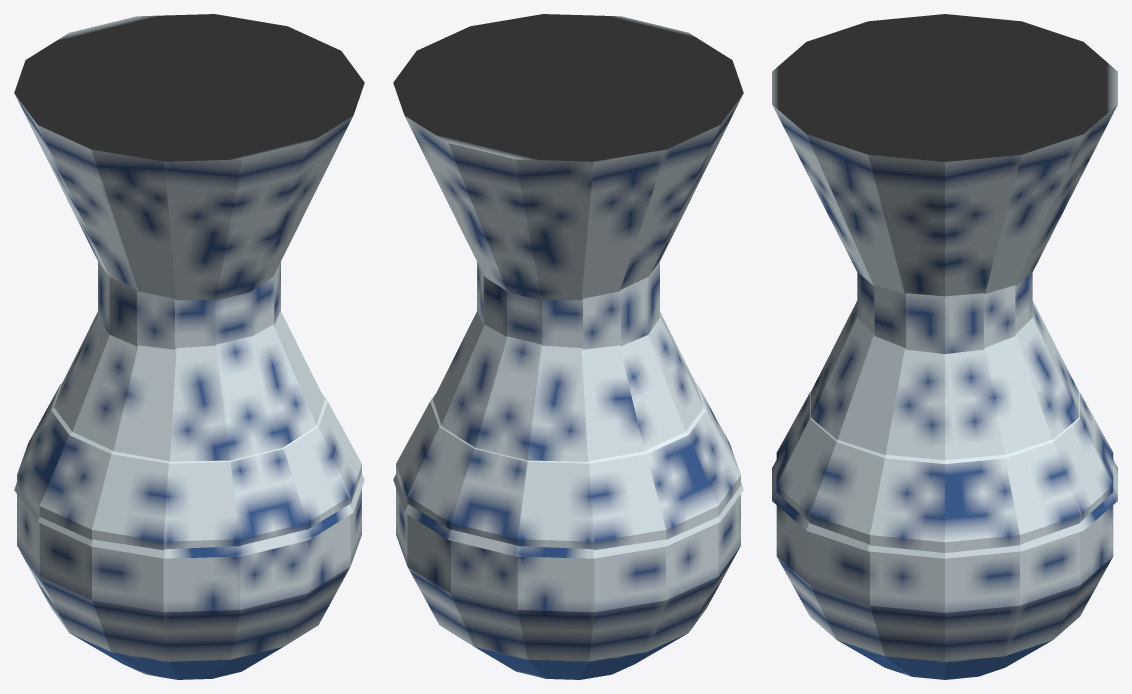
Rendered from vase.fbx.
The picture shows the model from 3 angles, left to right: view 1: azimuth 30°, elevation 25°; view 2: azimuth 150°, elevation 25°; view 3: azimuth 270°, elevation 25°; orthographic projection.
Visible parts, largest first — view 1: cone_1, sphere, cone, cylinder; view 2: cone_1, sphere, cone, cylinder; view 3: cone_1, sphere, cone, cylinder.
Part boxes in pixels (bbox=[...]): cone_1: bbox=[14, 14, 364, 300]; sphere: bbox=[17, 383, 361, 679]; cone: bbox=[14, 311, 364, 558]; cylinder: bbox=[98, 261, 280, 349]; cone_1: bbox=[393, 14, 743, 300]; sphere: bbox=[396, 383, 740, 679]; cone: bbox=[393, 311, 743, 558]; cylinder: bbox=[477, 261, 659, 349]; cone_1: bbox=[772, 14, 1117, 296]; sphere: bbox=[776, 392, 1113, 679]; cone: bbox=[772, 301, 1117, 558]; cylinder: bbox=[857, 272, 1032, 353].
Size of the model in its own units: 100 by 181 by 98.75.
1 material, 1 textured.
